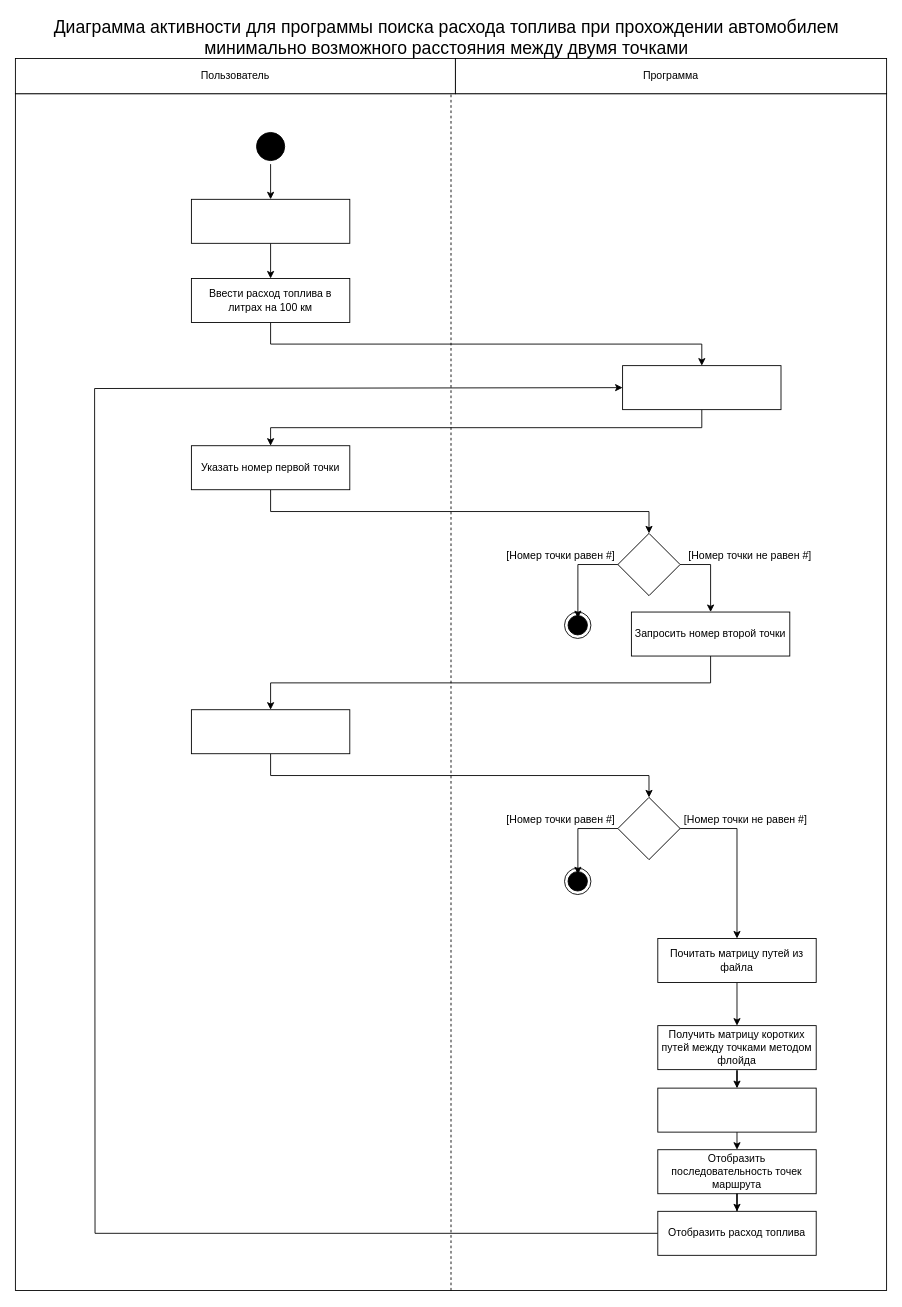
The diagram is 902 pixels wide and 1307 high, and some of its shapes have lost their labels. Each missing label, with the box of its shape:
Ввести имя файла с данными карты: (191, 198, 350, 243)
Запросить номер первой точки: (622, 365, 781, 410)
Отобразить расстояние между выбранными двумя точками: (657, 1087, 816, 1132)
Указать номер второй точки: (191, 709, 350, 754)
